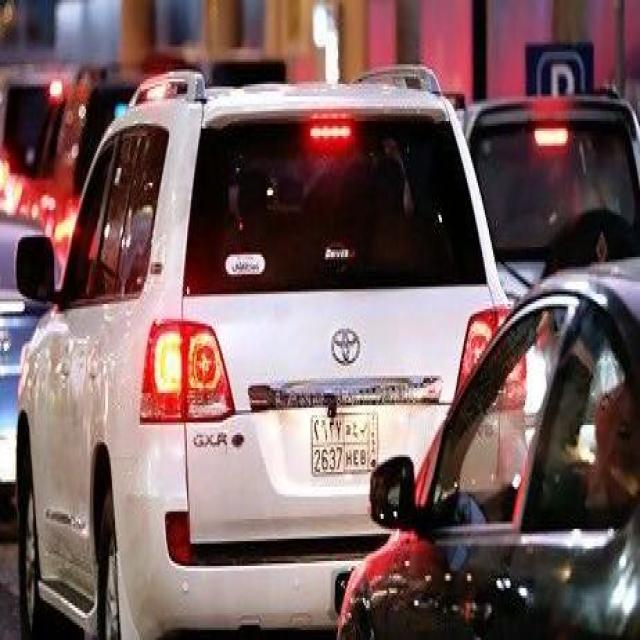license_plate: (309, 410, 379, 480)
